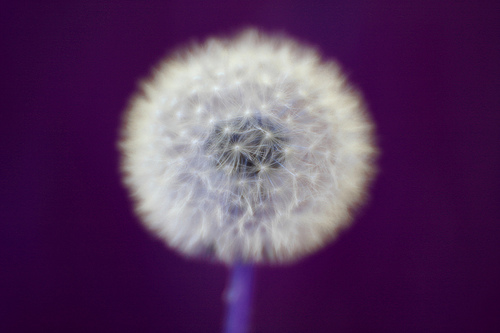dandelion: (106, 19, 396, 282)
